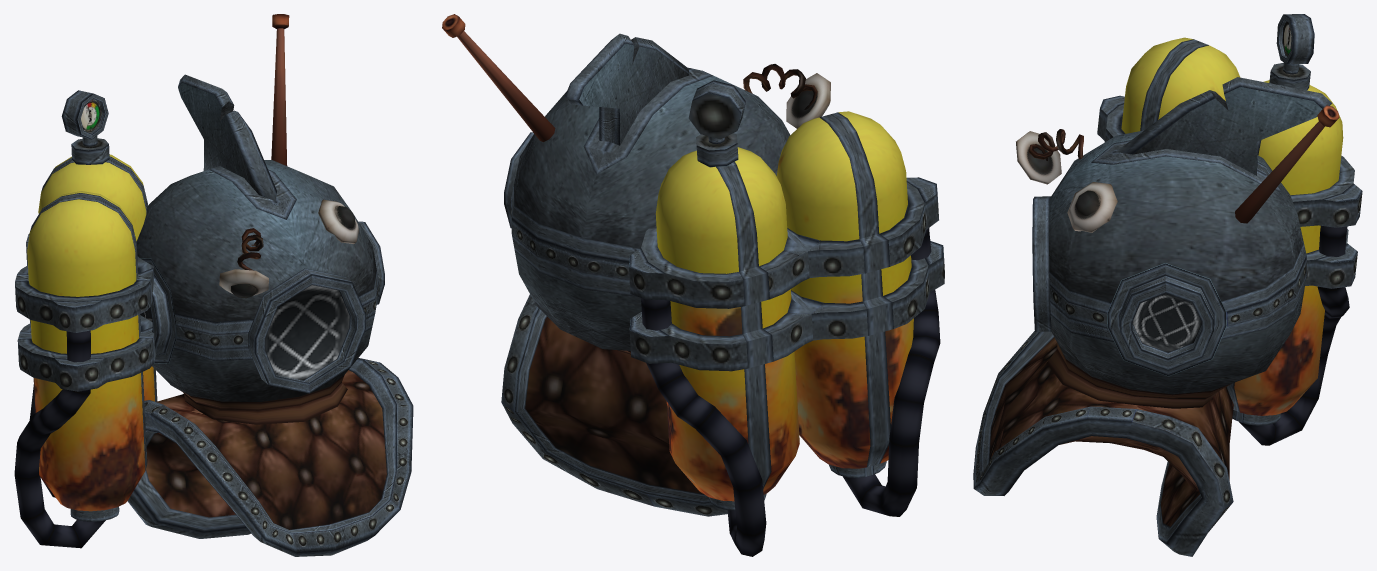
Rendered from FamiliarScubaMaskFIXED.fbx.
The picture shows the model from 3 angles, left to right: view 1: azimuth 30°, elevation 25°; view 2: azimuth 150°, elevation 25°; view 3: azimuth 270°, elevation 25°; orthographic projection. The views are drawn at different scales.
Visible parts, largest first — view 1: Cube.047; view 2: Cube.047; view 3: Cube.047.
Boxes of the visible parts, box(x1,y1,x2,y2) form: Cube.047: box(14, 14, 413, 556); Cube.047: box(442, 14, 944, 556); Cube.047: box(973, 14, 1362, 556).
Bounding box in the file's own units: 116 × 144 × 106.
Materials: 2 (2 with a texture image).
